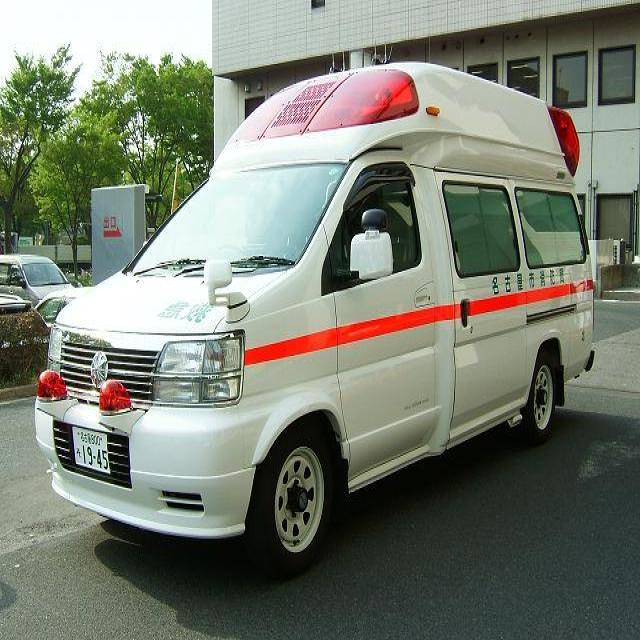emergency-vehicle: (44, 59, 595, 566)
